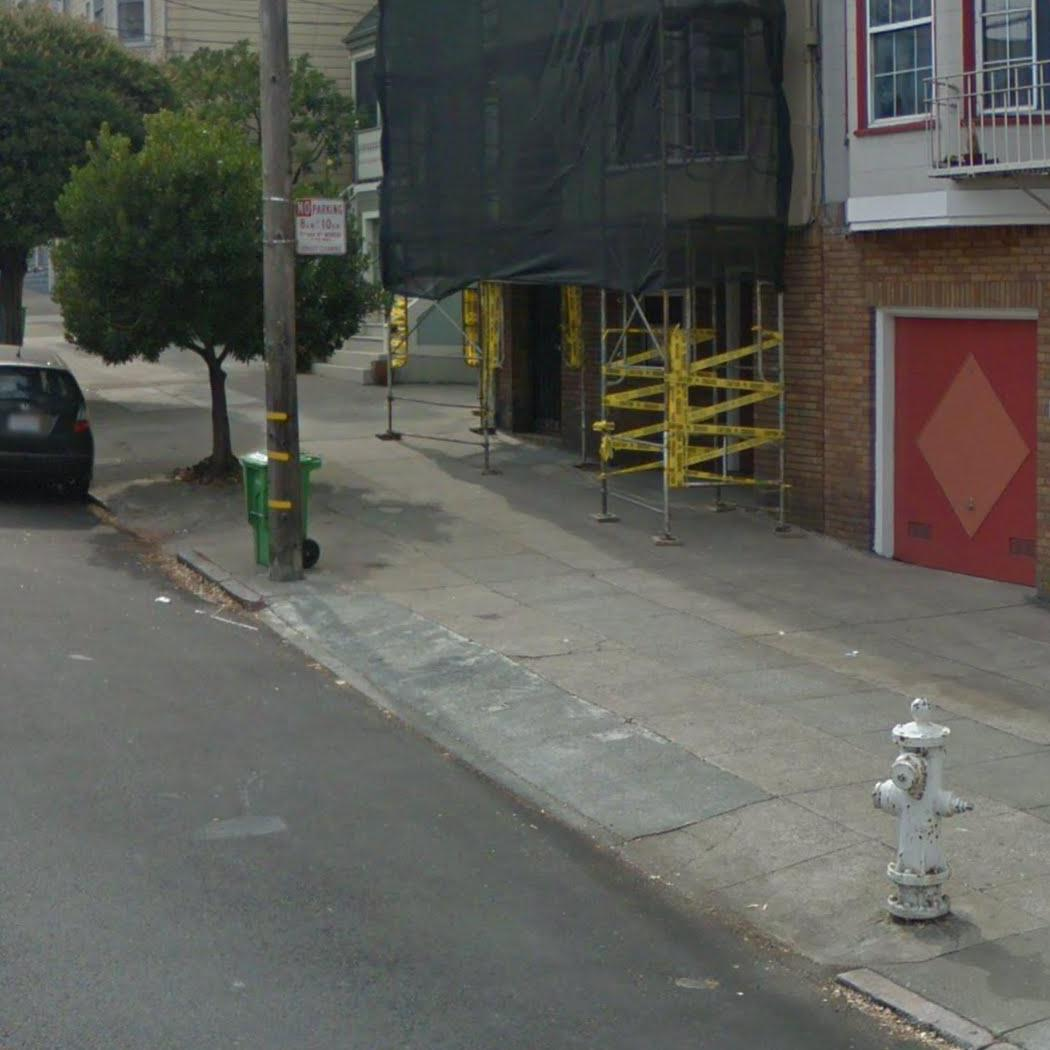No Parking: (288, 194, 355, 259)
